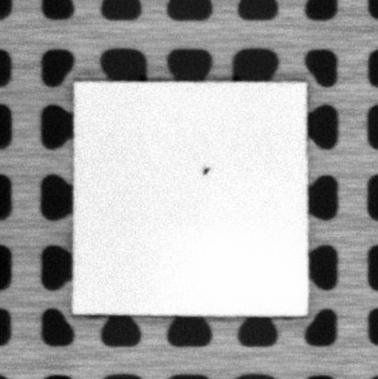DIE_INK: (201, 165, 212, 175)
